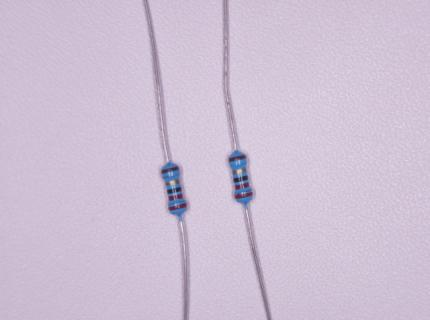Black band: (233, 175, 248, 183), (167, 187, 182, 194)
Brown band: (161, 166, 180, 174), (228, 154, 247, 162)
Gold band: (232, 168, 247, 175), (165, 179, 180, 186)
Red band: (168, 203, 187, 211), (234, 191, 253, 199), (168, 194, 183, 201), (235, 182, 249, 189)
